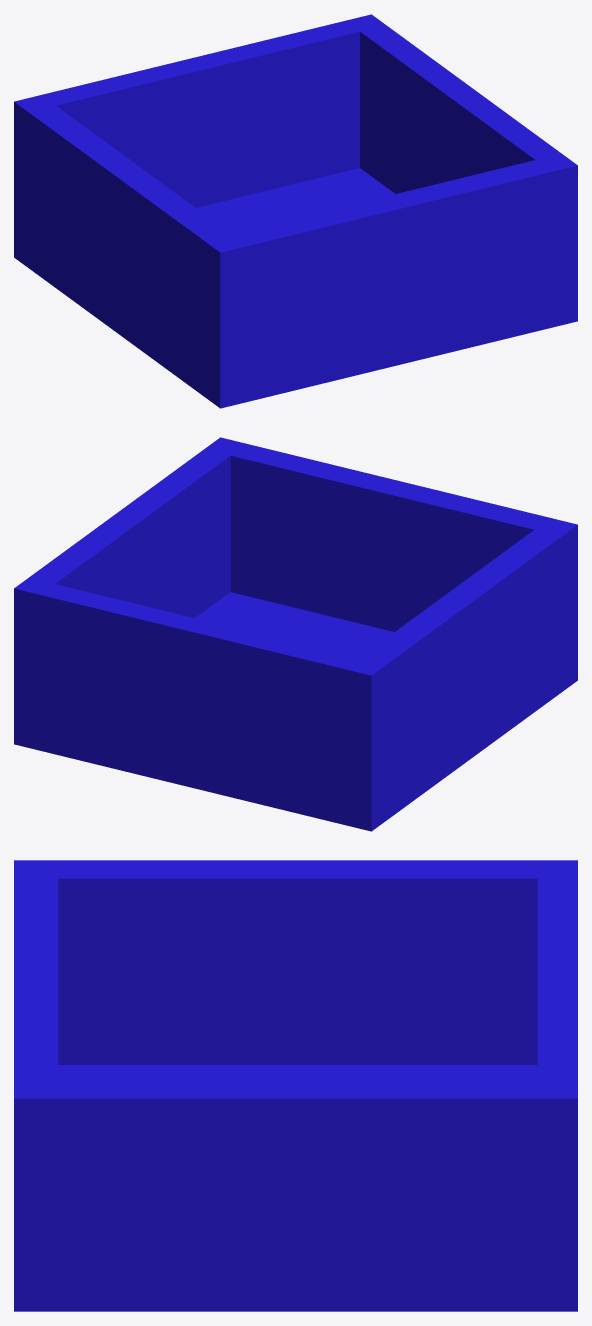
File: object_box_kai.dae
The picture shows the model from 3 angles, top to bottom: view 1: azimuth 30°, elevation 25°; view 2: azimuth 150°, elevation 25°; view 3: azimuth 270°, elevation 25°; orthographic projection. The views are drawn at different scales.
Visible parts, largest first — view 1: Cube; view 2: Cube; view 3: Cube.
Part boxes in pixels (bbox=[...]): Cube: bbox=[14, 14, 577, 408]; Cube: bbox=[14, 437, 577, 831]; Cube: bbox=[14, 860, 577, 1311].
Bounding box in the file's own units: 0.48 × 0.48 × 0.2.
